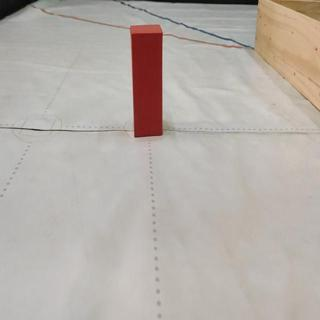redbox: (129, 23, 164, 139)
